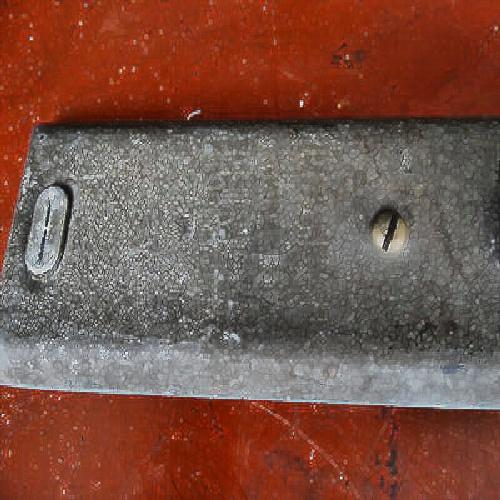stapler: (22, 120, 473, 411)
